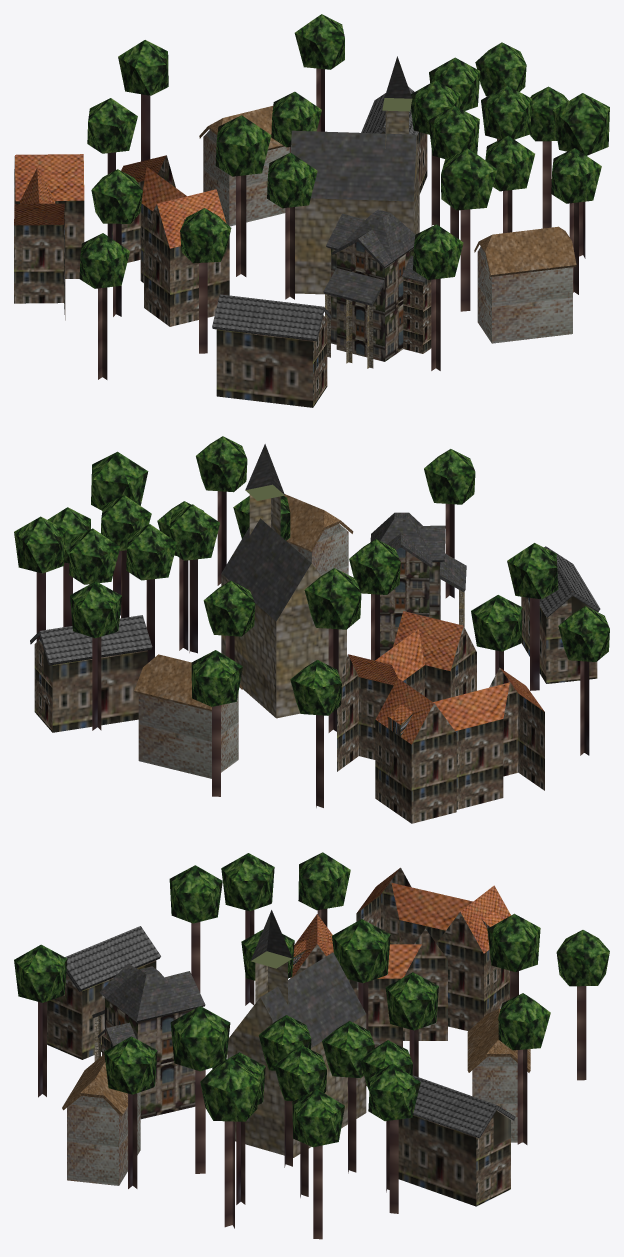
File: city_european_industrial_0.glb
3 views of the same model, one above another, from view 1: azimuth 30°, elevation 25°; view 2: azimuth 150°, elevation 25°; view 3: azimuth 270°, elevation 25° (orthographic). The views are drawn at different scales.
Parts seen in each view (by area): view 1: Cube.062; view 2: Cube.062; view 3: Cube.062.
Part boxes in pixels (bbox=[...]): Cube.062: bbox=[14, 14, 609, 407]; Cube.062: bbox=[14, 436, 609, 823]; Cube.062: bbox=[14, 852, 609, 1239].
Size of the model in its own units: 3.1 by 1.36 by 2.95.
1 material, 1 textured.
